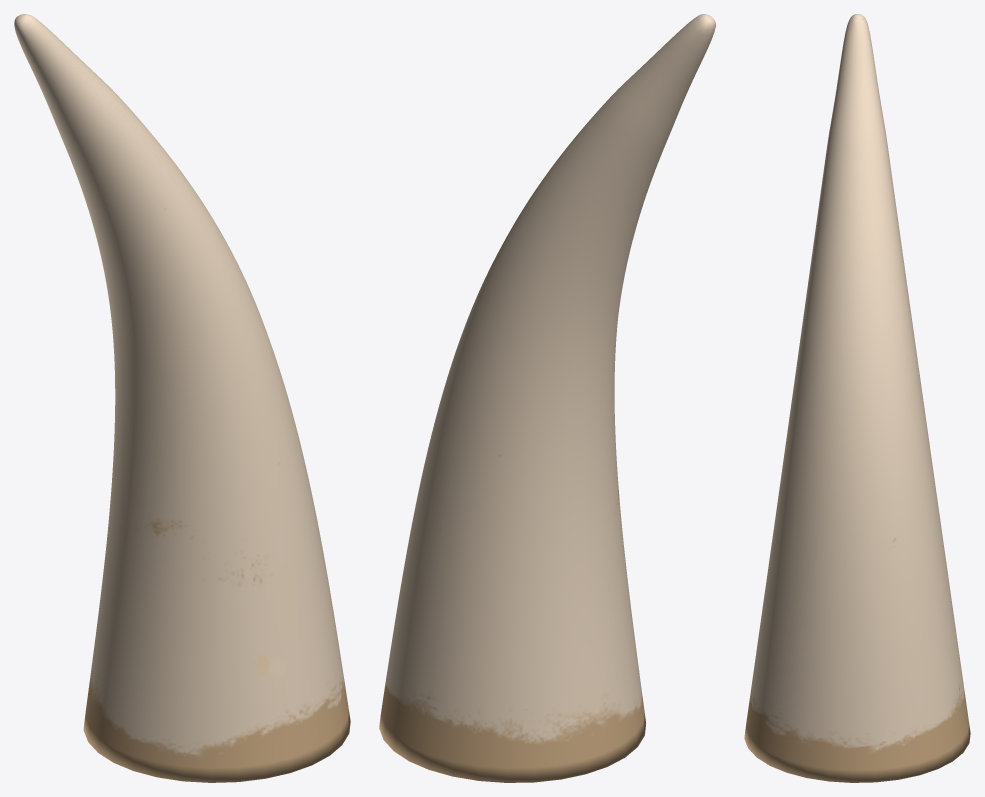
Rendered from unwrapped_tooth1.fbx.
3 views of the same model, side by side, from view 1: azimuth 30°, elevation 25°; view 2: azimuth 150°, elevation 25°; view 3: azimuth 270°, elevation 25° (orthographic). The views are drawn at different scales.
Parts seen in each view (by area): view 1: Tooth1; view 2: Tooth1; view 3: Tooth1.
Boxes of the visible parts, left/top/right/bottom form: Tooth1: left=14, top=14, right=350, bottom=782; Tooth1: left=379, top=14, right=715, bottom=782; Tooth1: left=744, top=14, right=970, bottom=782.
Size of the model in its own units: 786 by 1800 by 574.
